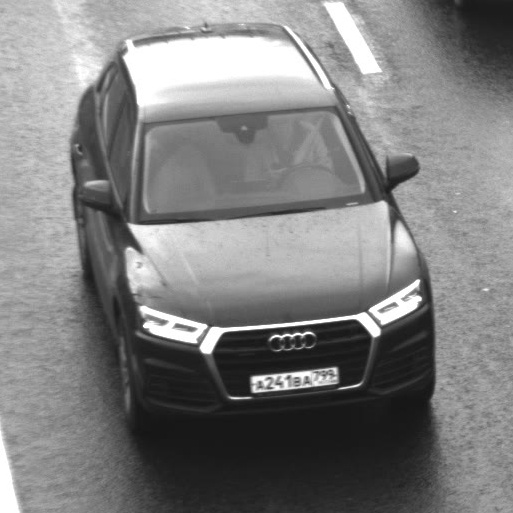plate: (241, 357, 349, 401)
